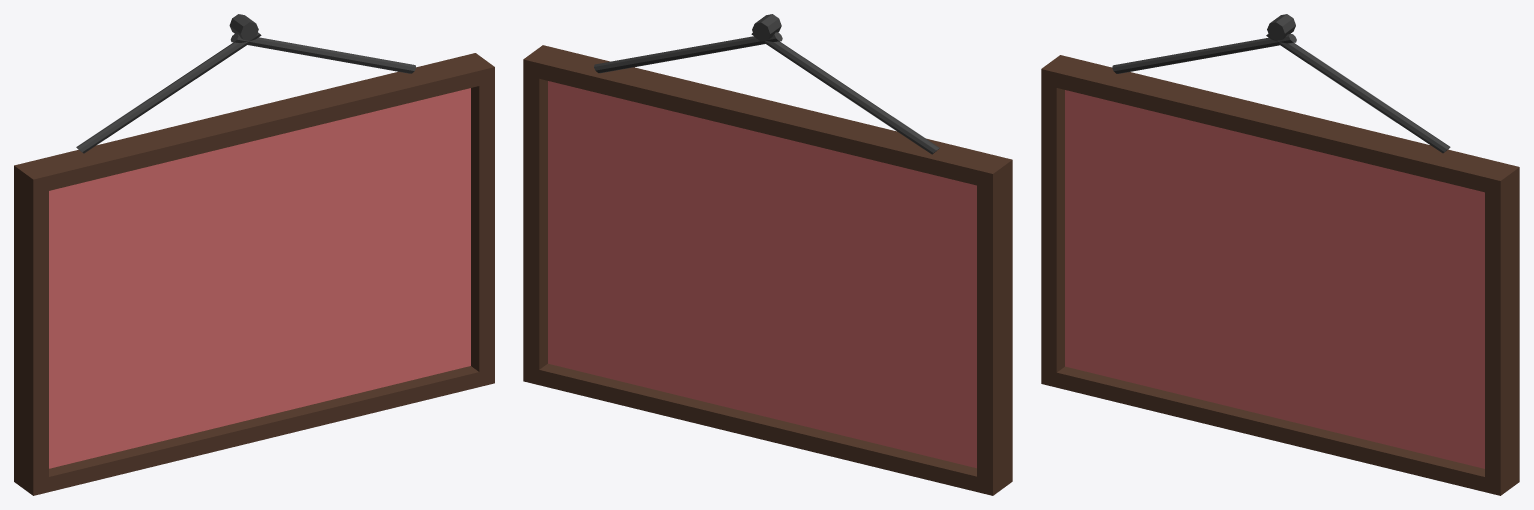
Rendered from Cuadro3.fbx.
The picture shows the model from 3 angles, left to right: view 1: azimuth 30°, elevation 25°; view 2: azimuth 150°, elevation 25°; view 3: azimuth 330°, elevation 25°; orthographic projection. The views are drawn at different scales.
Parts seen in each view (by area): view 1: Cube.071, Cuadro.002, Cylinder.007, Cylinder.006, Cylinder.008; view 2: Cube.071, Cuadro.002, Cylinder.007, Cylinder.006, Cylinder.008; view 3: Cube.071, Cuadro.002, Cylinder.006, Cylinder.007, Cylinder.008.
Part boxes in pixels (x1,y1,x2,y2): Cube.071: (49,88,470,468); Cuadro.002: (14,53,494,495); Cylinder.007: (76,32,261,153); Cylinder.006: (230,33,416,73); Cylinder.008: (229,14,258,40); Cube.071: (548,81,976,468); Cuadro.002: (523,45,1012,495); Cylinder.007: (751,33,939,154); Cylinder.006: (594,32,782,73); Cylinder.008: (752,14,781,41); Cube.071: (1065,90,1484,468); Cuadro.002: (1041,55,1519,495); Cylinder.006: (1266,34,1450,153); Cylinder.007: (1112,34,1296,73); Cylinder.008: (1267,14,1295,40).
Bounding box in the file's own units: 69.63 × 5.49 × 59.3.
